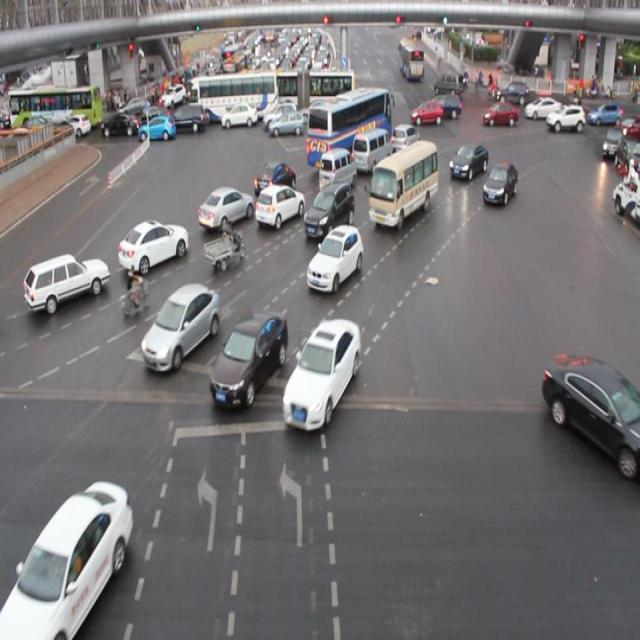car: (0, 471, 132, 640), (538, 343, 640, 487), (282, 317, 362, 433), (211, 310, 289, 406), (138, 283, 220, 374), (22, 252, 109, 316), (117, 219, 189, 275), (304, 226, 365, 292), (302, 184, 354, 238), (196, 184, 254, 232), (254, 185, 304, 229), (255, 161, 296, 202), (482, 162, 517, 208), (447, 141, 488, 180), (390, 124, 420, 160)
truck: (368, 138, 438, 229), (350, 129, 394, 177), (318, 150, 357, 194)
van: (306, 90, 392, 174)
